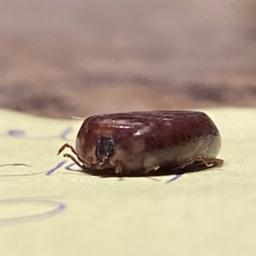Rhipicephalus sanguineus: (57, 110, 222, 176)
